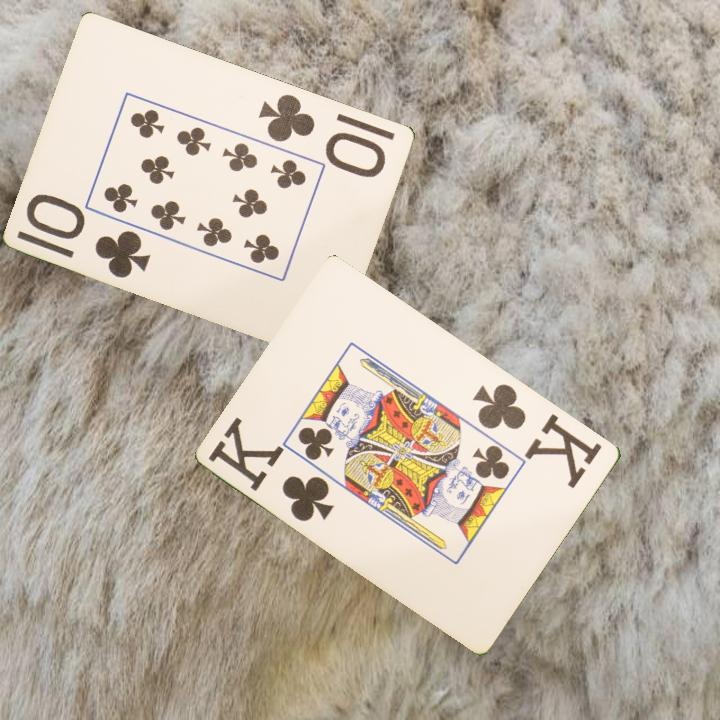10c: (255, 90, 390, 180), (23, 192, 154, 281)
Kc: (469, 379, 606, 491), (205, 415, 338, 525)
